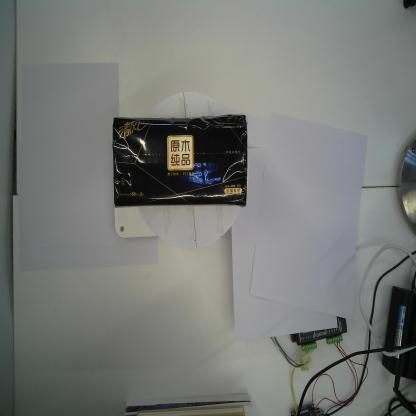Tissue: (112, 113, 248, 209)
